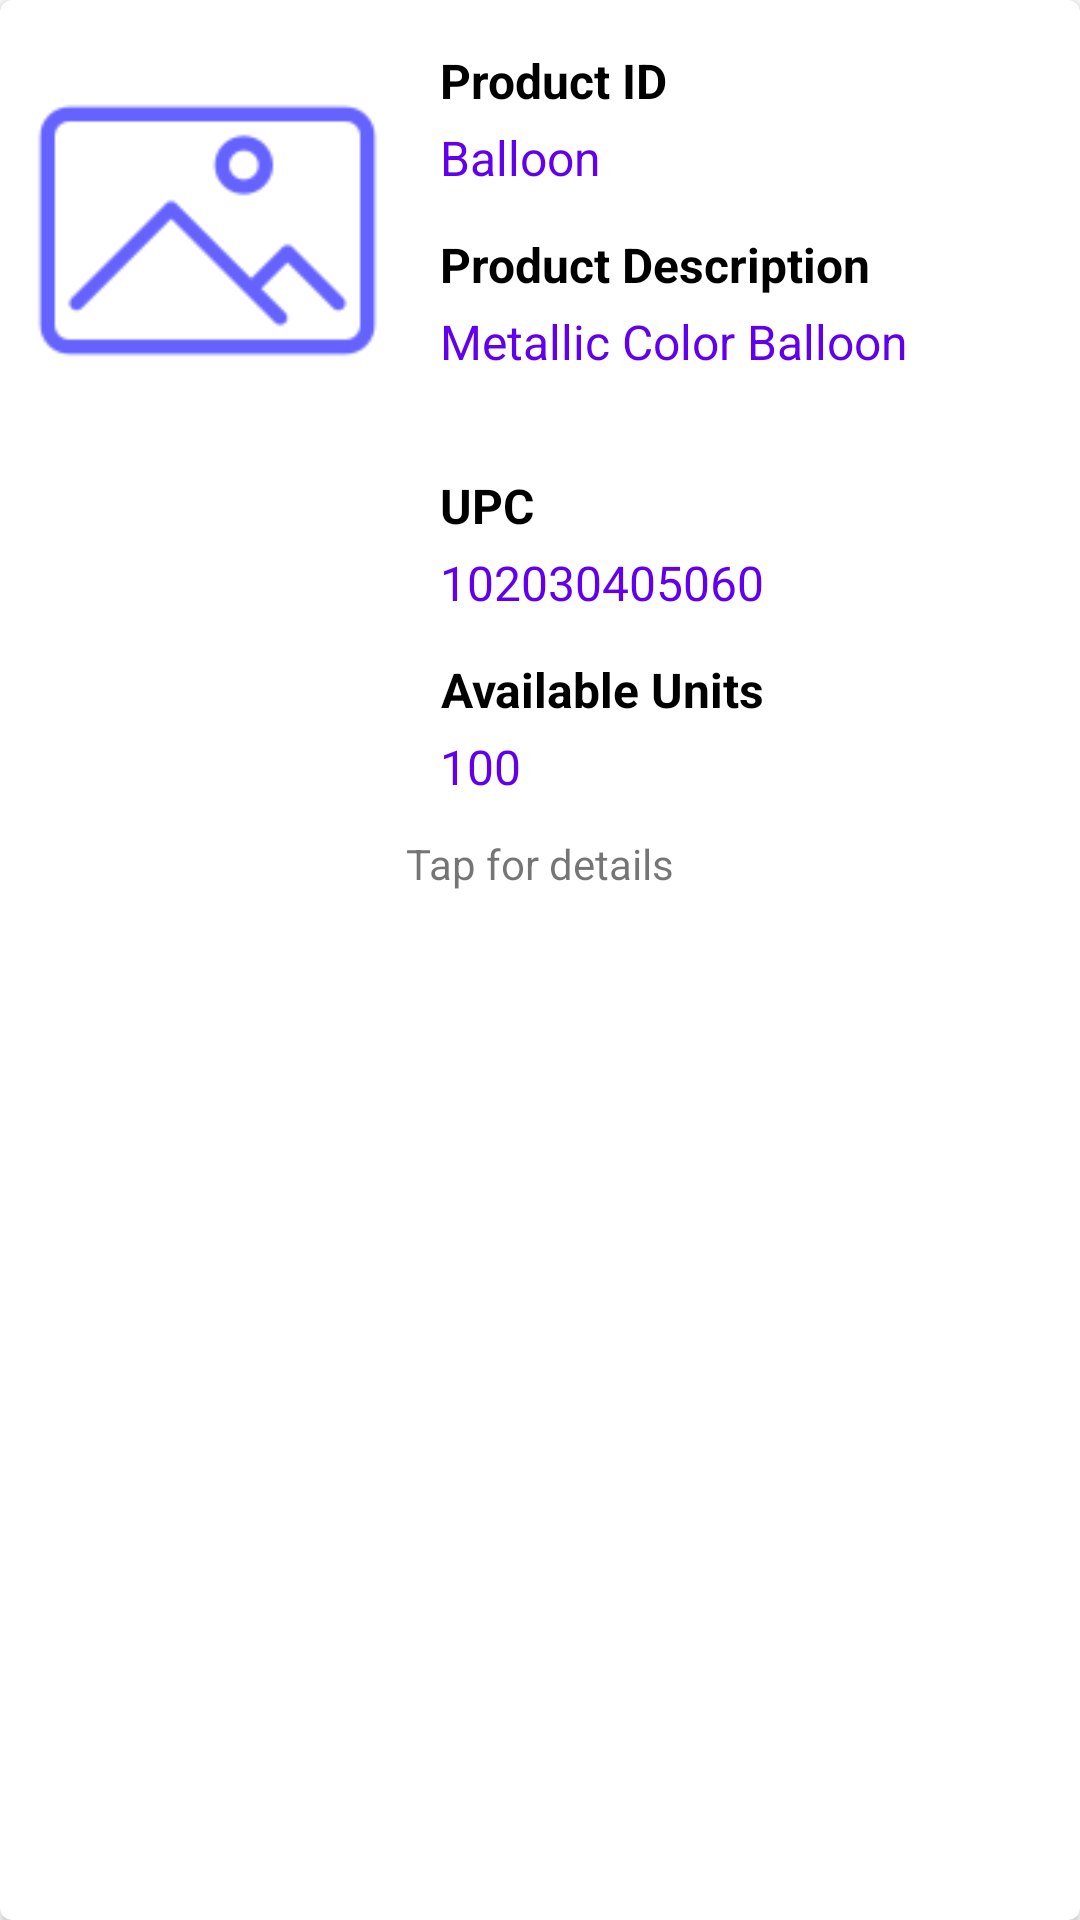

Locate icon controls on the screen. Image size 1080w x 1920h, boxes as box=[x1, y1, x2, y2].
photo mainblue: box=[38, 105, 377, 356]
